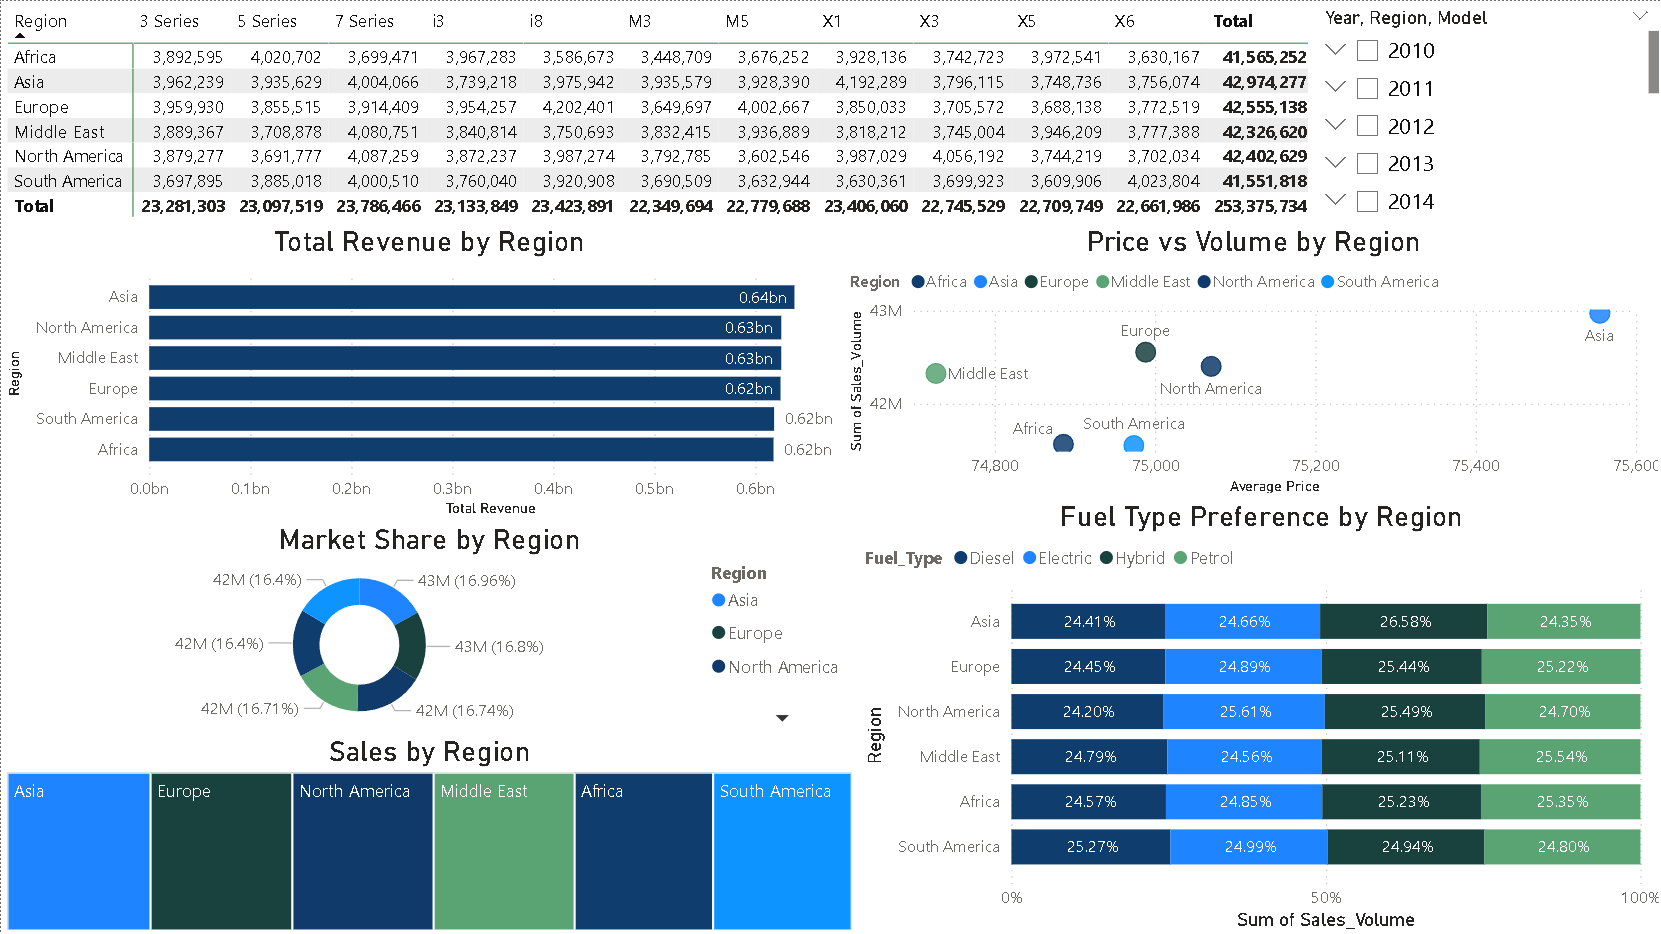

The page's visual inventory and layout, read from the dashboard file:
{"tool":"powerbi","page":{"name":"Geographic Analysis Dashboard","canvas":[1280,720],"ordinal":1},"visuals":[{"type":"treemap","title":" Sales by Region","fields":{"Group":["BMW sales data (2010-2024).Region"],"Values":["Sum(BMW sales data (2010-2024).Sales_Volume)"]},"box":[0,564.7,659.3,155.3],"z":0},{"type":"donutChart","title":"Market Share by Region","fields":{"Category":["BMW sales data (2010-2024).Region"],"Y":["Sum(BMW sales data (2010-2024).Sales_Volume)"]},"box":[0,401.3,659.3,163.3],"z":1000},{"type":"barChart","fields":{"Y":["BMW sales data (2010-2024).Total Revenue"],"Category":["BMW sales data (2010-2024).Region"]},"box":[0,172.7,659.3,228.7],"z":2000},{"type":"scatterChart","title":"Price vs Volume by Region","fields":{"X":["BMW sales data (2010-2024).Average Price"],"Y":["Sum(BMW sales data (2010-2024).Sales_Volume)"],"Series":["BMW sales data (2010-2024).Region"],"Size":["BMW sales data (2010-2024).Total Revenue"]},"box":[648,172.7,632,211.3],"z":3000},{"type":"hundredPercentStackedBarChart","title":"Fuel Type Preference by Region","fields":{"Category":["BMW sales data (2010-2024).Region"],"Y":["Sum(BMW sales data (2010-2024).Sales_Volume)"],"Series":["BMW sales data (2010-2024).Fuel_Type"]},"box":[659.1,383.6,620.9,336.4],"z":4000},{"type":"pivotTable","fields":{"Rows":["BMW sales data (2010-2024).Region"],"Columns":["BMW sales data (2010-2024).Model"],"Values":["Sum(BMW sales data (2010-2024).Sales_Volume)"]},"box":[0,0,1020,172.7],"z":5000},{"type":"slicer","fields":{"Values":["BMW sales data (2010-2024).Year","BMW sales data (2010-2024).Region","BMW sales data (2010-2024).Model"]},"box":[1005.5,0,274.5,172.7],"z":6000}]}

Visuals, with their boxes in screenshot pixels (x1, y1, x2, y2), scaled from the page's 1280x720 canvas onto the 1661x934 screenshot:
" Sales by Region" treemap: l=0, t=733, r=856, b=933
"Market Share by Region" donutChart: l=0, t=521, r=856, b=732
barChart - BMW sales data (2010-2024).Total Revenue x BMW sales data (2010-2024).Region: l=0, t=224, r=856, b=521
"Price vs Volume by Region" scatterChart: l=841, t=224, r=1660, b=498
"Fuel Type Preference by Region" hundredPercentStackedBarChart: l=855, t=498, r=1660, b=933
pivotTable - BMW sales data (2010-2024).Region x BMW sales data (2010-2024).Model: l=0, t=0, r=1324, b=224
slicer - BMW sales data (2010-2024).Year x BMW sales data (2010-2024).Region: l=1305, t=0, r=1660, b=224
